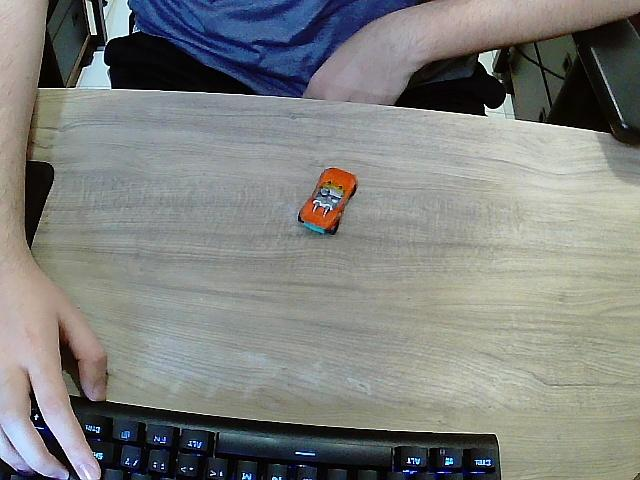Carro: (297, 169, 356, 236)
